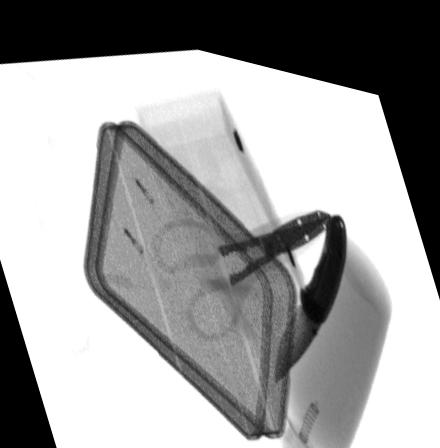Knife: (273, 199, 346, 369)
Scissors: (149, 190, 332, 331)
